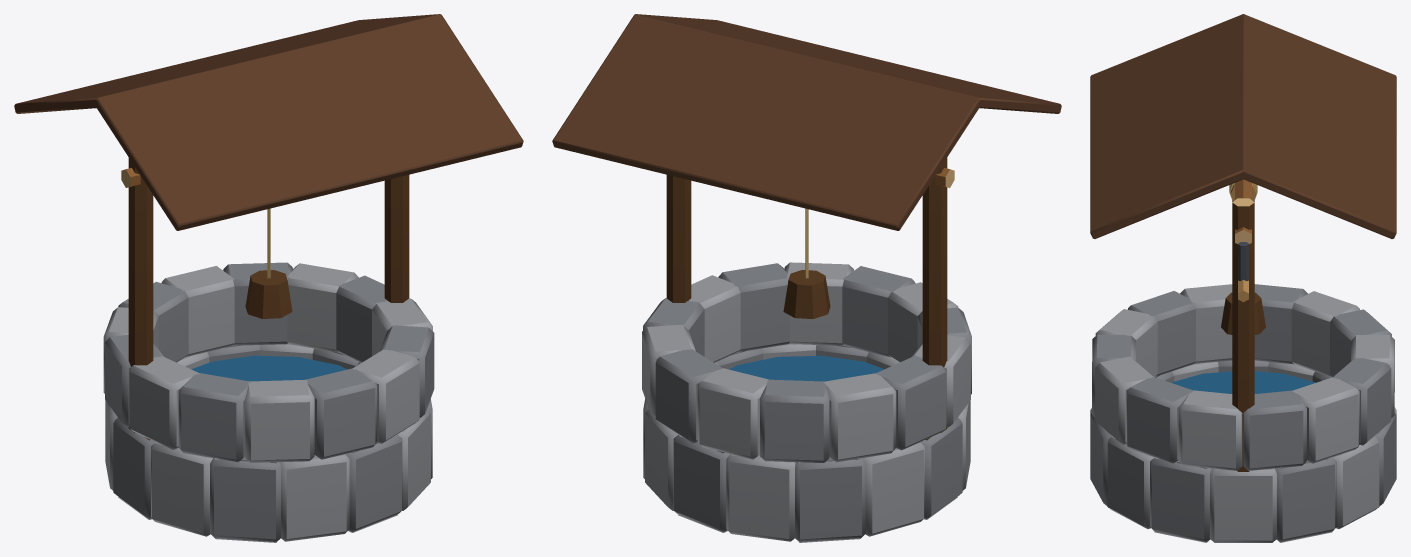
Rendered from well.glb.
The picture shows the model from 3 angles, left to right: view 1: azimuth 30°, elevation 25°; view 2: azimuth 150°, elevation 25°; view 3: azimuth 270°, elevation 25°; orthographic projection. The views are drawn at different scales.
Parts seen in each view (by area): view 1: well; view 2: well; view 3: well, well_craft.
Boxes of the visible parts, x1=… form: well: x1=14, y1=14, x2=523, y2=542; well: x1=552, y1=14, x2=1061, y2=542; well: x1=1090, y1=14, x2=1396, y2=542; well_craft: x1=1229, y1=183, x2=1257, y2=302.
Bounding box in the file's own units: 2.37 × 2.66 × 1.9.
